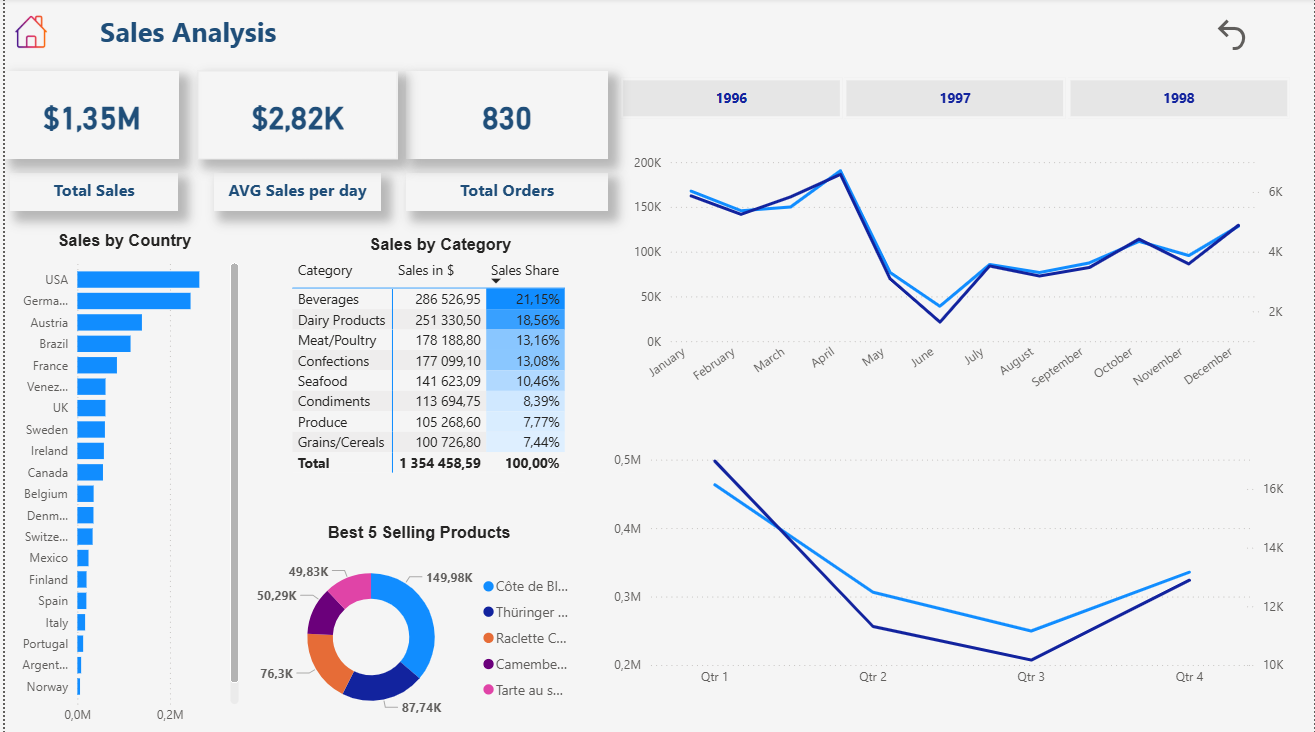

This screenshot's page, from the dashboard's own definition file:
{"tool":"powerbi","page":{"name":"Sales Analysis","canvas":[1280,720],"ordinal":1},"visuals":[{"type":"cardVisual","fields":{"Data":["Measure.Total_sales"]},"box":[0,71.4,170.2,86.4],"z":0},{"type":"slicer","fields":{"Values":["orders.YEAR_Order"]},"box":[575.5,70.9,704.8,54.2],"z":1000},{"type":"pivotTable","title":"Sales by Category","fields":{"Values":["Measure.Total_sales","Measure.Revenue % from total"],"Rows":["categories.category_name"]},"box":[276.9,232.4,299.2,242.1],"z":2000},{"type":"lineChart","title":"Sales by Month","fields":{"Category":["orders.order_date.Variation.Date Hierarchy.Month"],"Y":["Measure.Total_sales"],"Y2":["Sum(order_details.quantity)"]},"box":[608.9,147.4,646.4,257.2],"z":3000},{"type":"cardVisual","fields":{"Data":["Measure.AverageRevenuePerDay"]},"box":[188,71.4,196.2,86.4],"z":4000},{"type":"textbox","box":[87.8,9.2,203.4,46.2],"z":5000},{"type":"lineChart","fields":{"Y":["Measure.Total_sales"],"Category":["orders.order_date.Variation.Date Hierarchy.Quarter"],"Y2":["Sum(order_details.quantity)"]},"box":[590,438.4,665.2,244.9],"z":6000},{"type":"textbox","box":[5.2,171.3,164.8,37.9],"z":8000},{"type":"textbox","box":[204.3,171,164,37.5],"z":9000},{"type":"donutChart","title":"Best 5 Selling Products","fields":{"Y":["Measure.Total_sales"],"Category":["products.product_name"]},"box":[244.9,513.5,321.5,206],"z":10000},{"type":"clusteredBarChart","title":"Sales by Country","fields":{"Y":["Measure.Total_sales"],"Category":["orders.ship_country"]},"box":[0,228.2,233.8,491.2],"z":11000},{"type":"cardVisual","fields":{"Data":["Measure.Total_orders"]},"box":[392,70.9,197.4,86.2],"z":12000},{"type":"textbox","box":[392.3,171.3,197.5,37.9],"z":13000},{"type":"actionButton","box":[1180.2,15.4,46.2,40.1],"z":13001},{"type":"image","box":[0,9.2,50.8,46.2],"z":13002}]}

Visuals, with their boxes in screenshot pixels (x1, y1, x2, y2), scaled from the page's 1280x720 canvas onto the 1315x732 screenshot:
cardVisual - Measure.Total_sales: select_region(0, 73, 175, 160)
slicer - orders.YEAR_Order: select_region(591, 72, 1314, 127)
"Sales by Category" pivotTable: select_region(284, 236, 592, 482)
"Sales by Month" lineChart: select_region(626, 150, 1290, 411)
cardVisual - Measure.AverageRevenuePerDay: select_region(193, 73, 395, 160)
textbox: select_region(90, 9, 299, 56)
lineChart - Measure.Total_sales x orders.order_date.Variation.Date Hierarchy.Quarter: select_region(606, 446, 1290, 695)
textbox: select_region(5, 174, 175, 213)
textbox: select_region(210, 174, 378, 212)
"Best 5 Selling Products" donutChart: select_region(252, 522, 582, 731)
"Sales by Country" clusteredBarChart: select_region(0, 232, 240, 731)
cardVisual - Measure.Total_orders: select_region(403, 72, 606, 160)
textbox: select_region(403, 174, 606, 213)
actionButton: select_region(1212, 16, 1260, 56)
image: select_region(0, 9, 52, 56)
